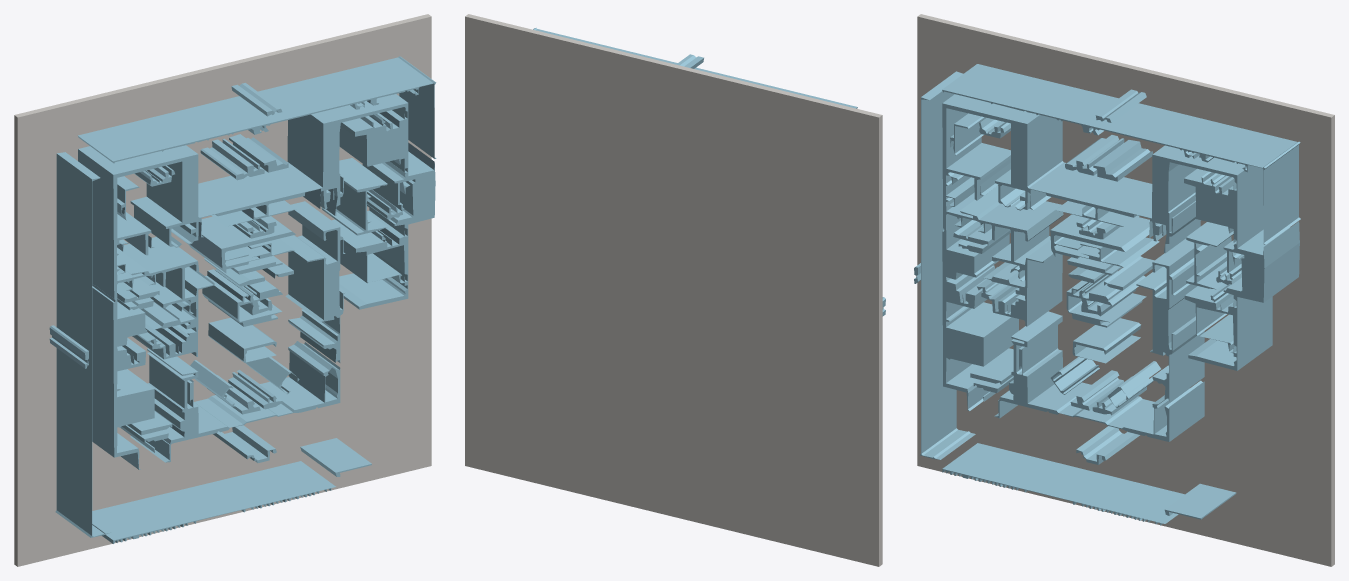
3 views of the same model, side by side, from view 1: azimuth 30°, elevation 25°; view 2: azimuth 150°, elevation 25°; view 3: azimuth 330°, elevation 25° (orthographic).
Parts seen in each view (by area): view 1: world; view 2: world; view 3: world.
Boxes of the visible parts, x1=… form: world: x1=14, y1=14, x2=436, y2=566; world: x1=465, y1=14, x2=885, y2=566; world: x1=914, y1=14, x2=1334, y2=566.
Size of the model in its own units: 10.23 by 10.61 by 1.66.
